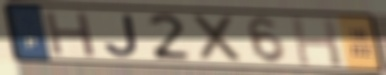2: (144, 12, 196, 62)
6: (245, 16, 289, 65)
H: (288, 15, 346, 68), (41, 9, 99, 59)
J: (102, 13, 141, 59)
X: (189, 13, 247, 64)
